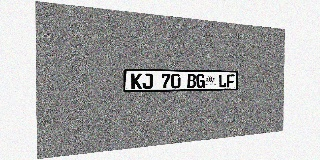plate: (123, 69, 238, 92)
